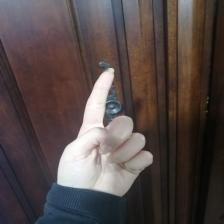one: (60, 64, 158, 201)
